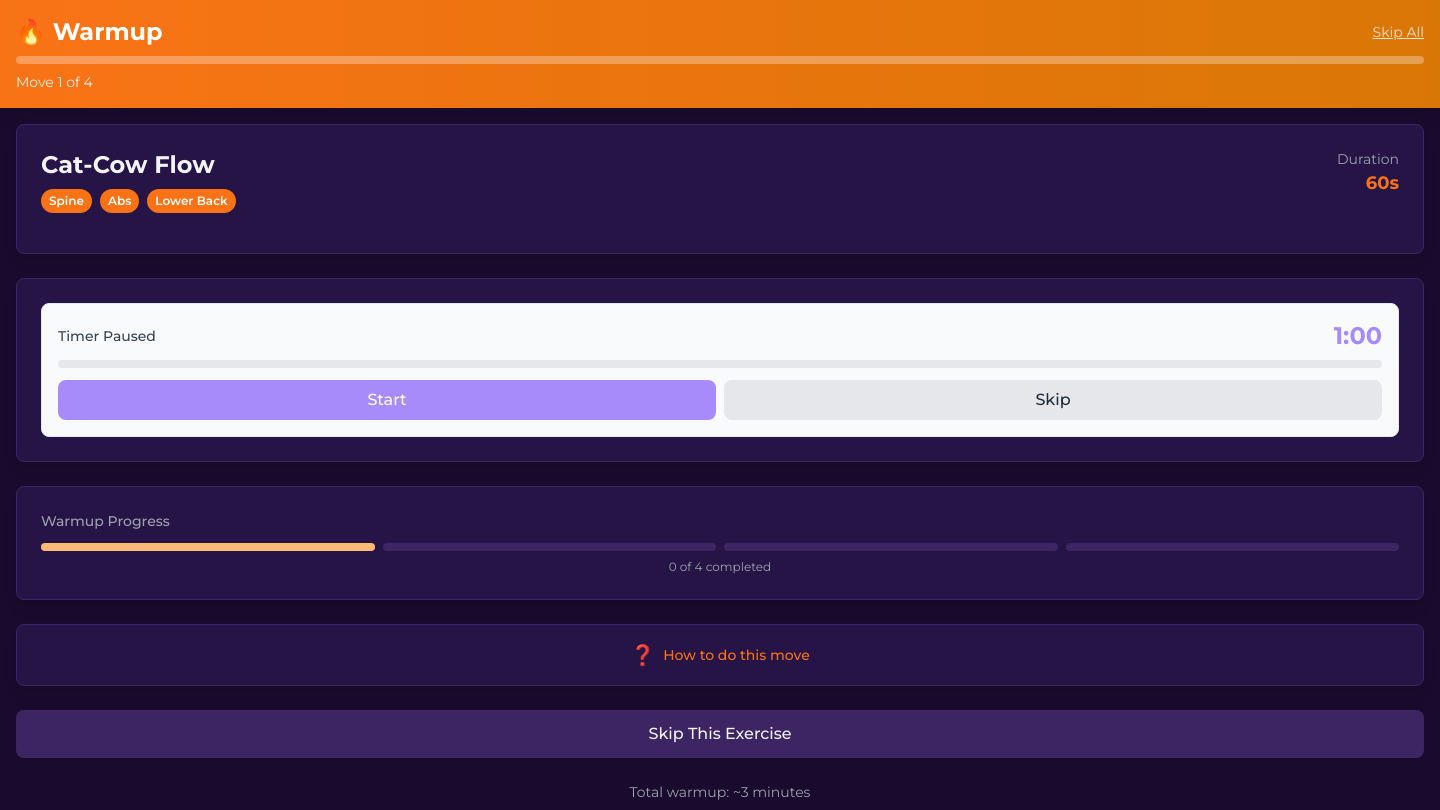
WarmupRoutine › Skip This Exercise advances to the next move without leaving the page
The image size is (1440, 810).
expect the heading "Cat-Cow Flow" is shown: met, box [41,149,236,181]
Click the button "Skip This Exercise".
click(720, 734)  # box [16,710,1424,758]
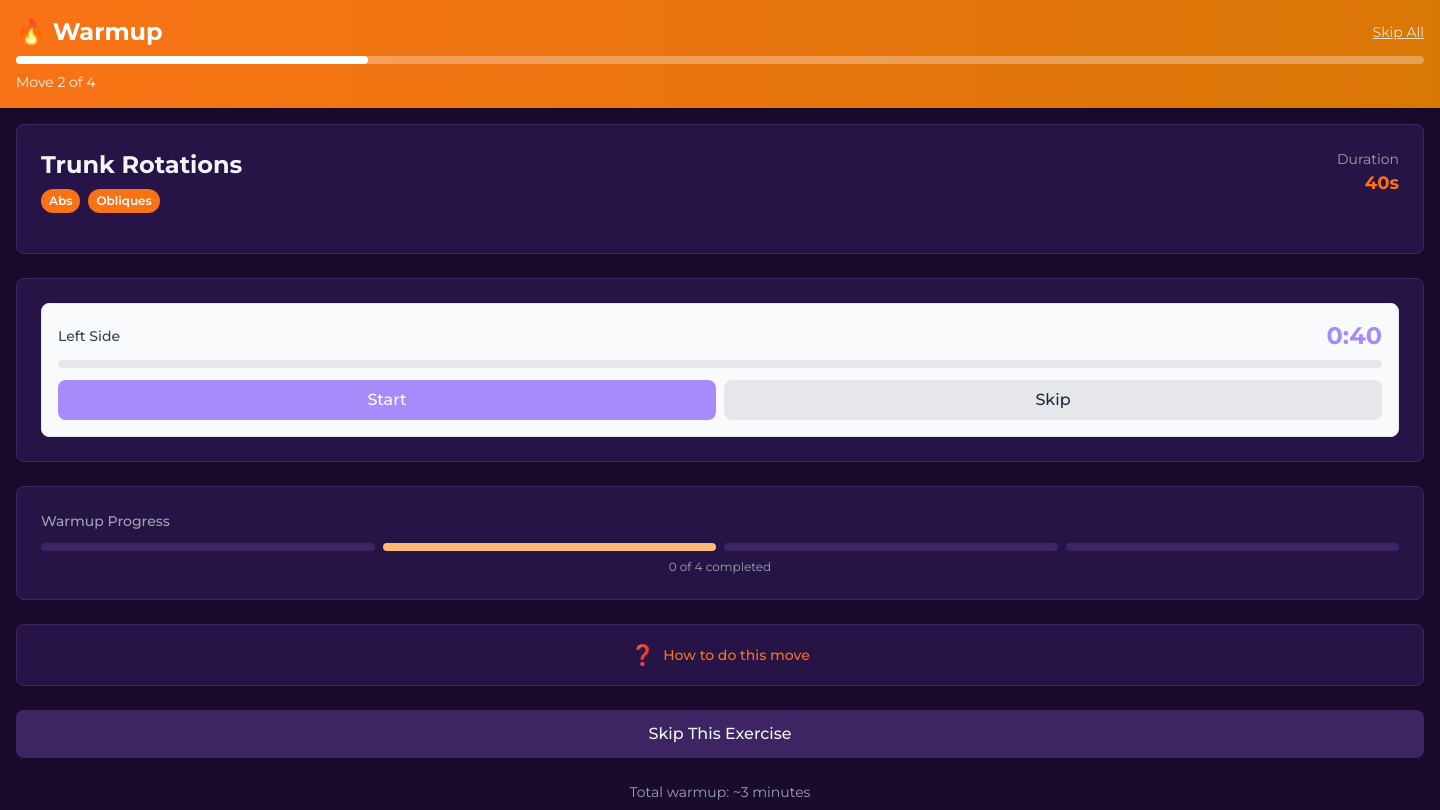
expect the heading "Trunk Rotations" is shown: met, box [41,149,242,181]
